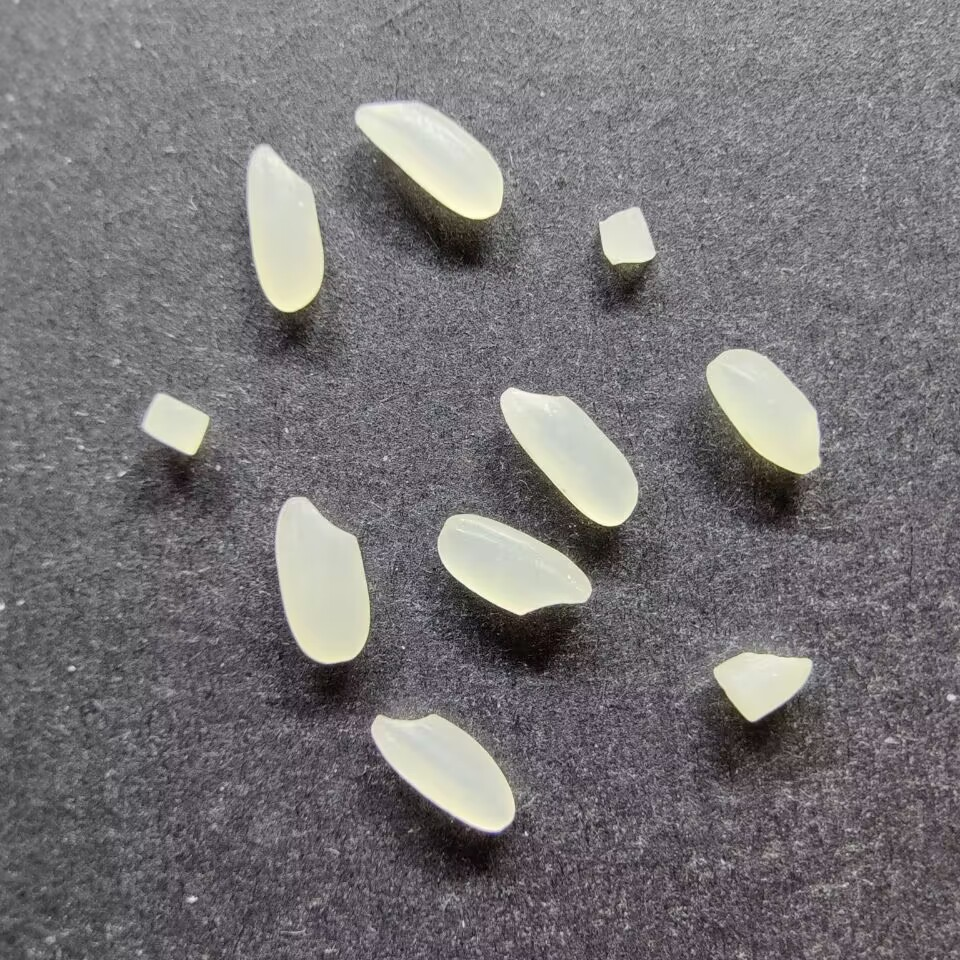broken: (711, 650, 813, 725), (137, 391, 212, 458), (595, 205, 657, 267)
rice: (498, 386, 641, 530), (353, 98, 506, 221), (370, 711, 517, 834), (273, 493, 372, 666), (435, 512, 593, 618), (705, 347, 823, 477), (244, 140, 324, 314)
